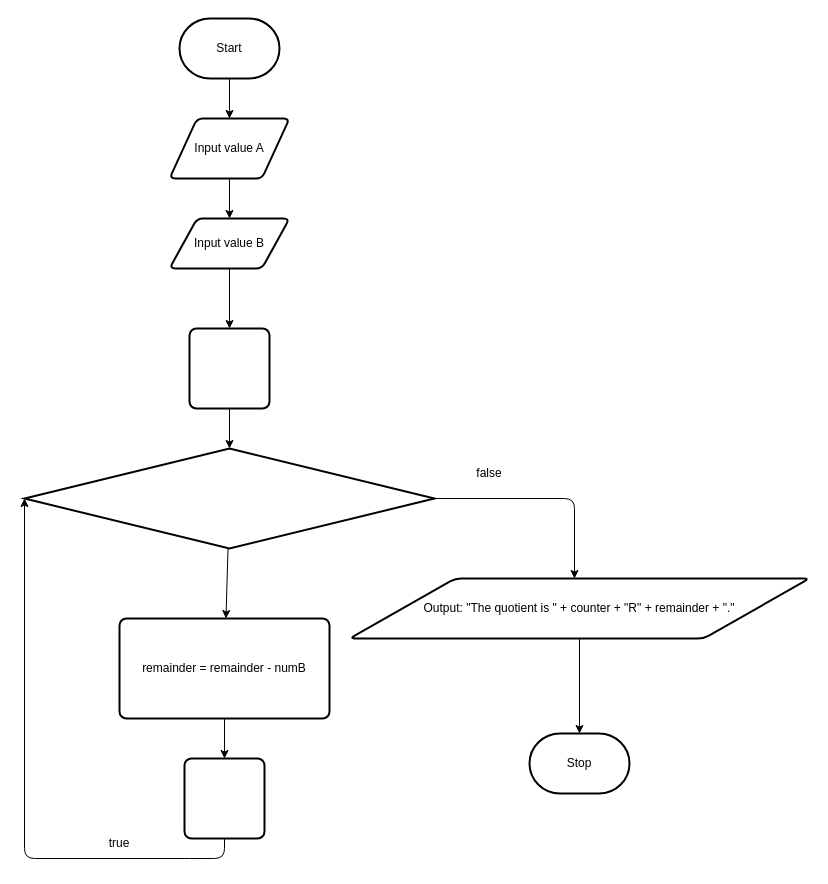
The diagram is 828 pixels wide and 884 high, and some of its shapes have lost their labels. The shapes that lost their labels are listed below. From the top down, each one's centre as x and y in pixels, then its label:
At pixel 229 368: "remainder = numA".
At pixel 229 498: "while (remainder >= numB)".
At pixel 224 798: "counter ++".
